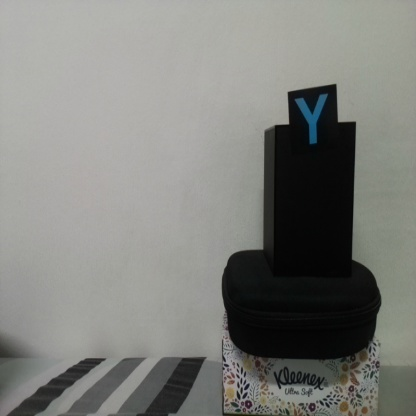id_14: (289, 92, 338, 152)
